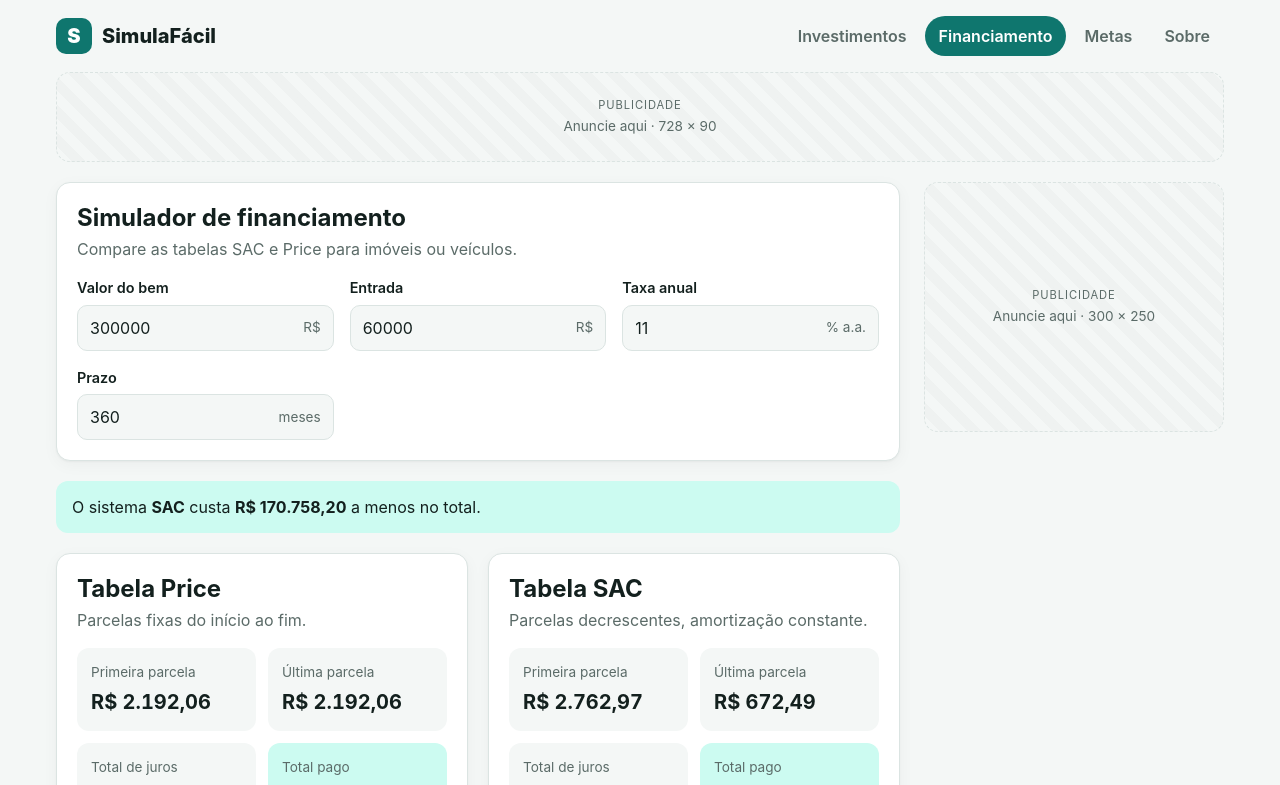
Test: Simulador de financiamento › valida entrada maior que o valor do bem
Replace the text in the field labelled "Entrada" with "400000". click: coordinates (457, 328)
box: [351,306,564,350]
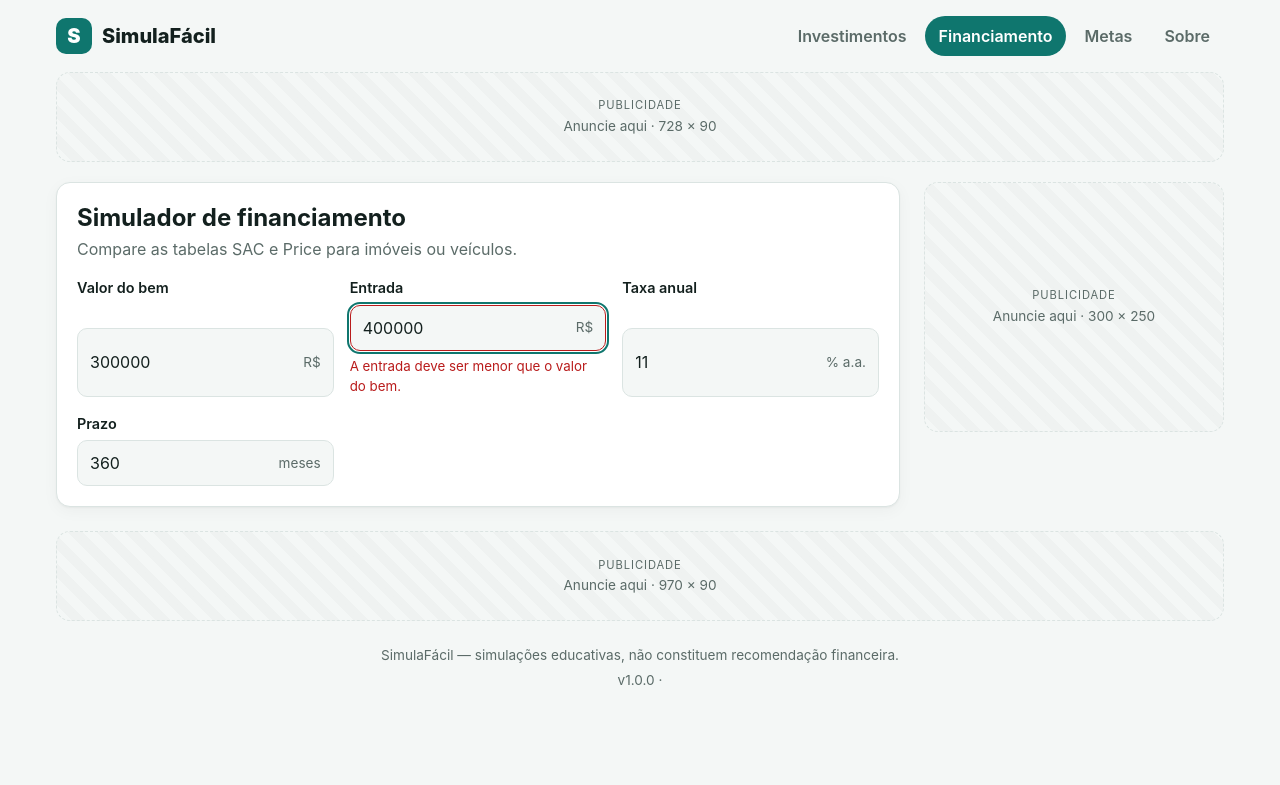
Expected: the message reads "A entrada deve ser menor que o valor do bem.", [350,358,587,394]
